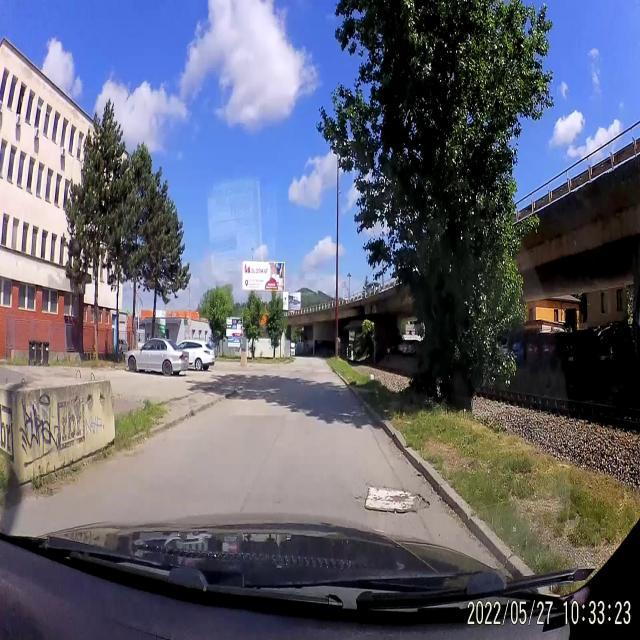Pothole: (360, 481, 430, 518)
